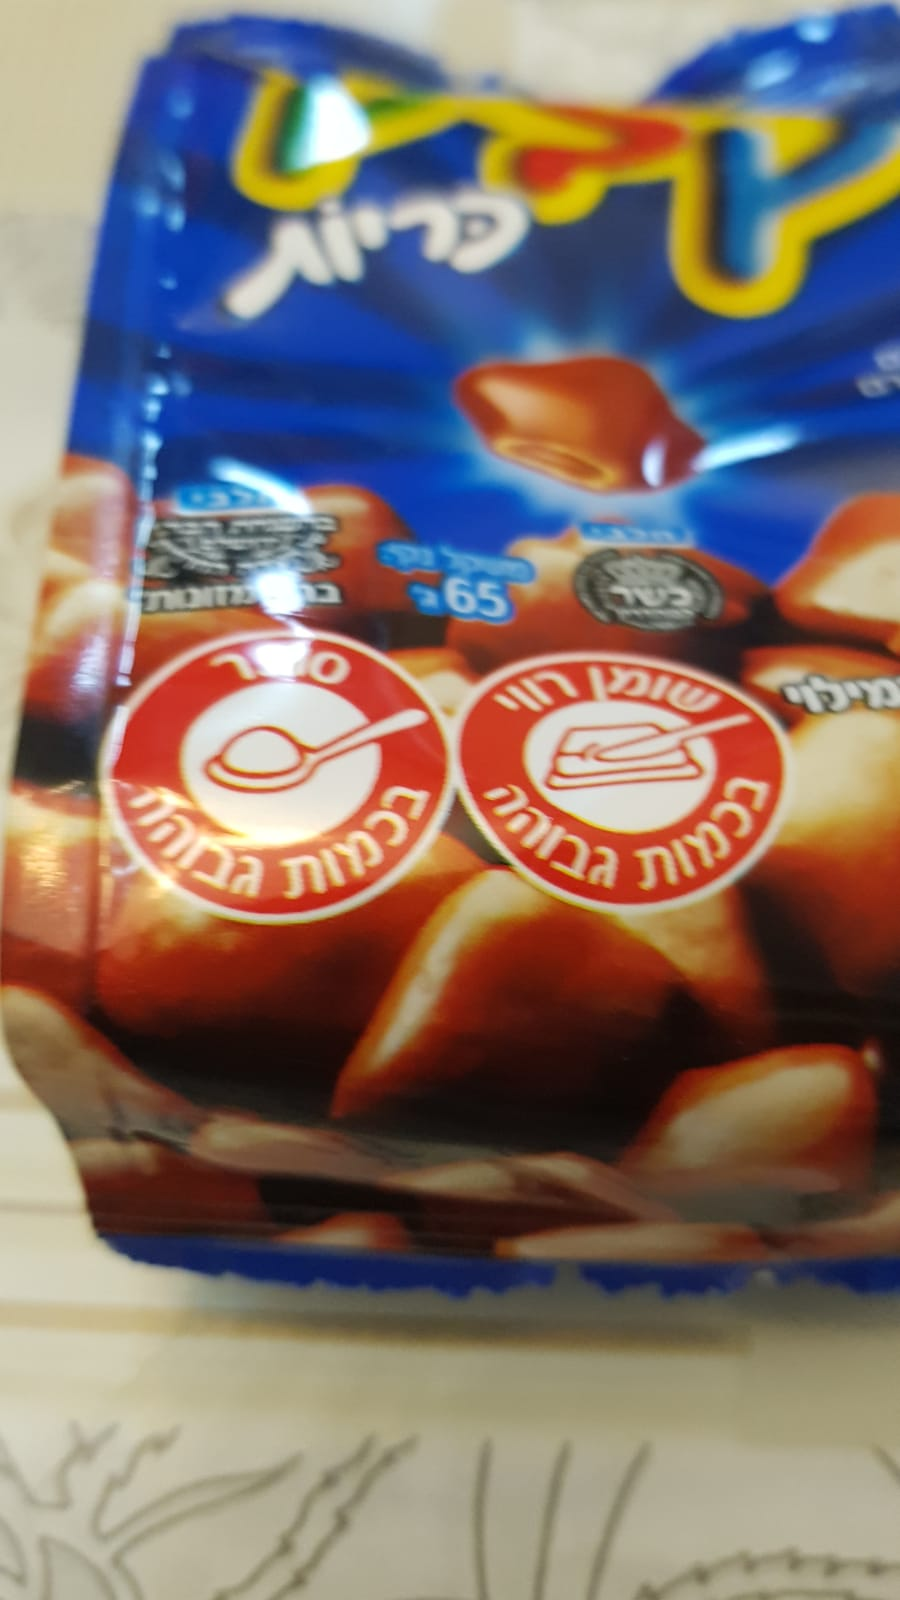fat: (457, 651, 792, 915)
sugar: (104, 630, 456, 926)
